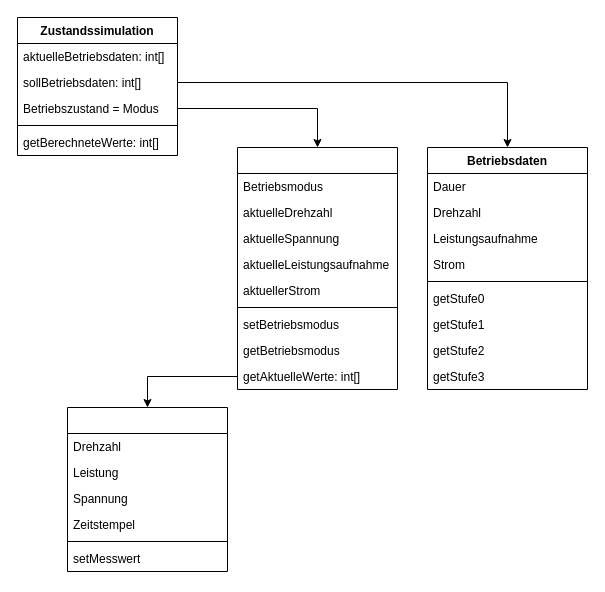
Some shapes in this 605 by 592 pixel diagram are drawn without their labels. The shapes that lost their labels are listed below. From the top down, each one's box as (x1, y1, x2, y2) in pixels, then its label:
(236, 146, 398, 390): Betriebszustand
(66, 406, 228, 572): MesswerteDB
